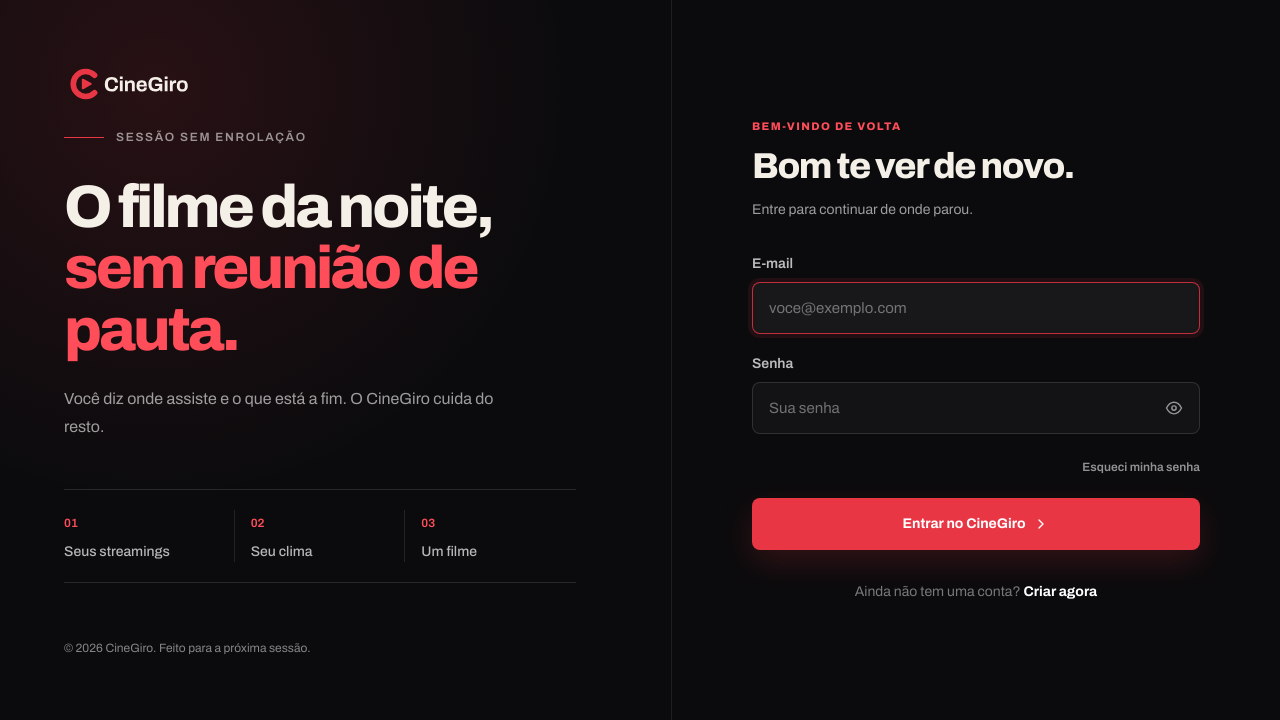
authentication pages › shows the API message when login credentials are invalid
Type "person@cinegiro.app" into the field labelled "E-mail" at [976, 308], box x1=752 y1=282 x2=1200 y2=334
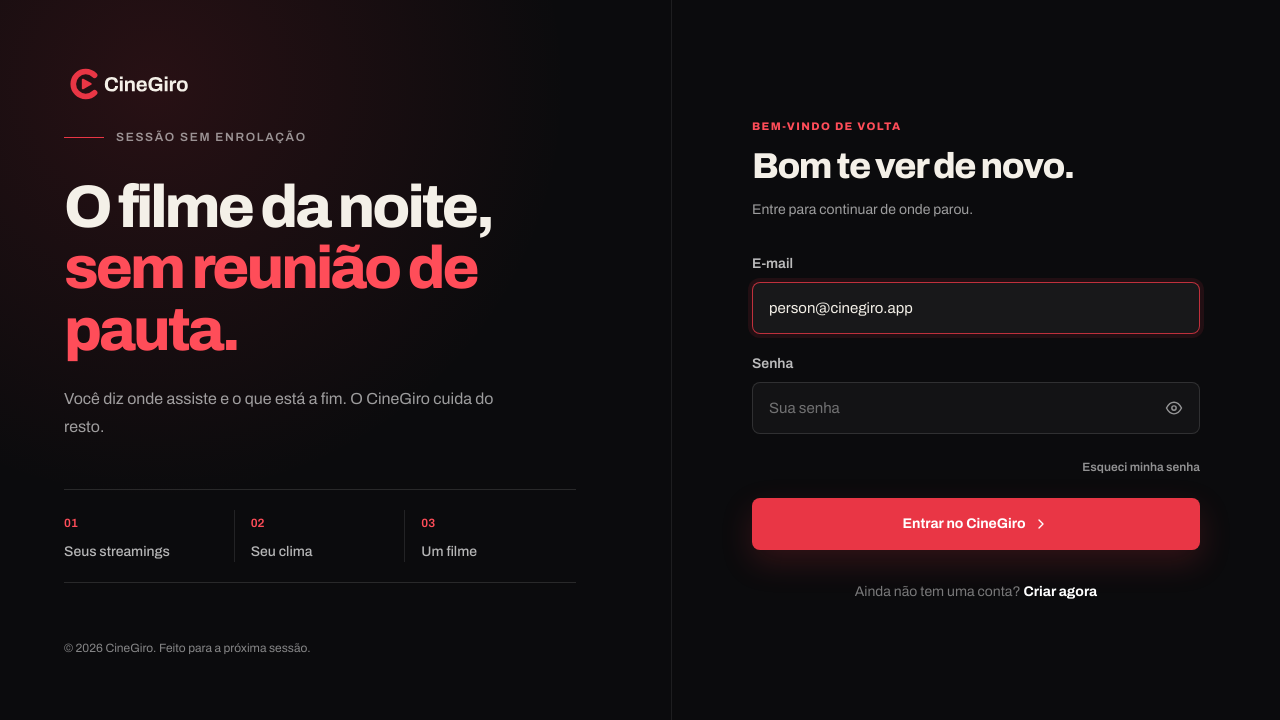
Type "wrong-password" into the password field labelled "Senha" at [976, 408], box x1=752 y1=382 x2=1200 y2=434
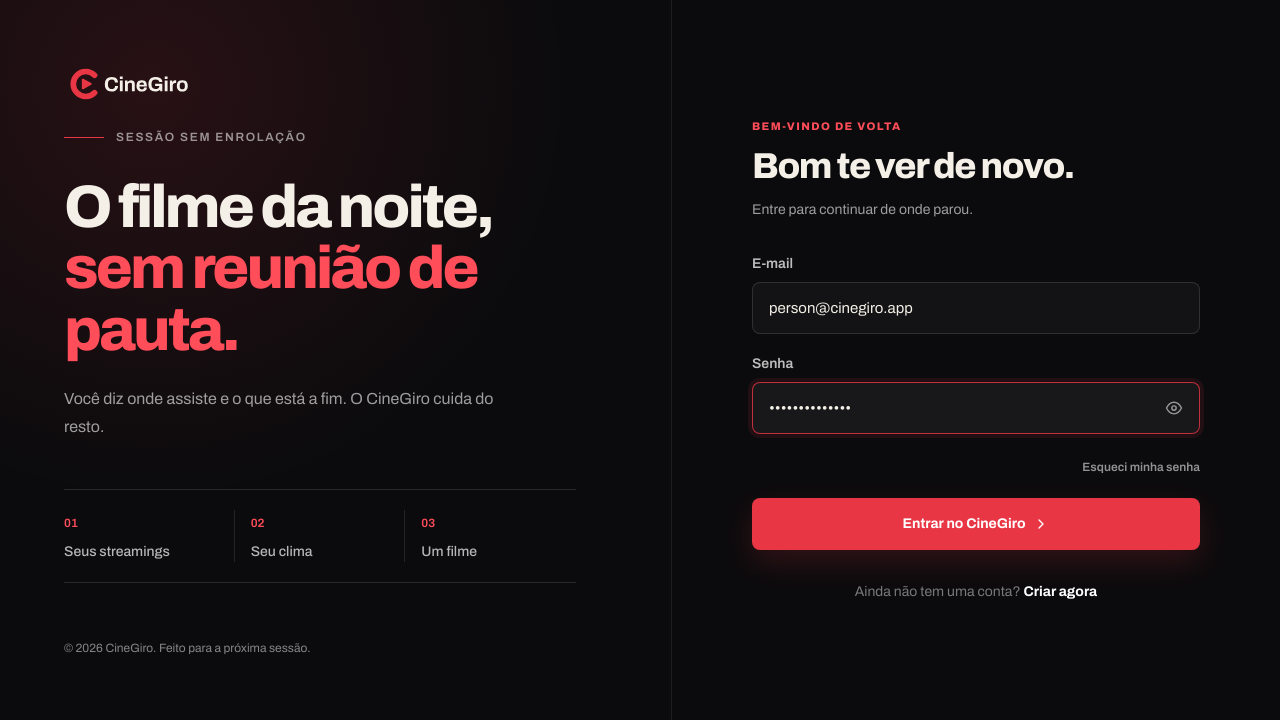
Click the button "Entrar no CineGiro" at [976, 524], box x1=752 y1=498 x2=1200 y2=550
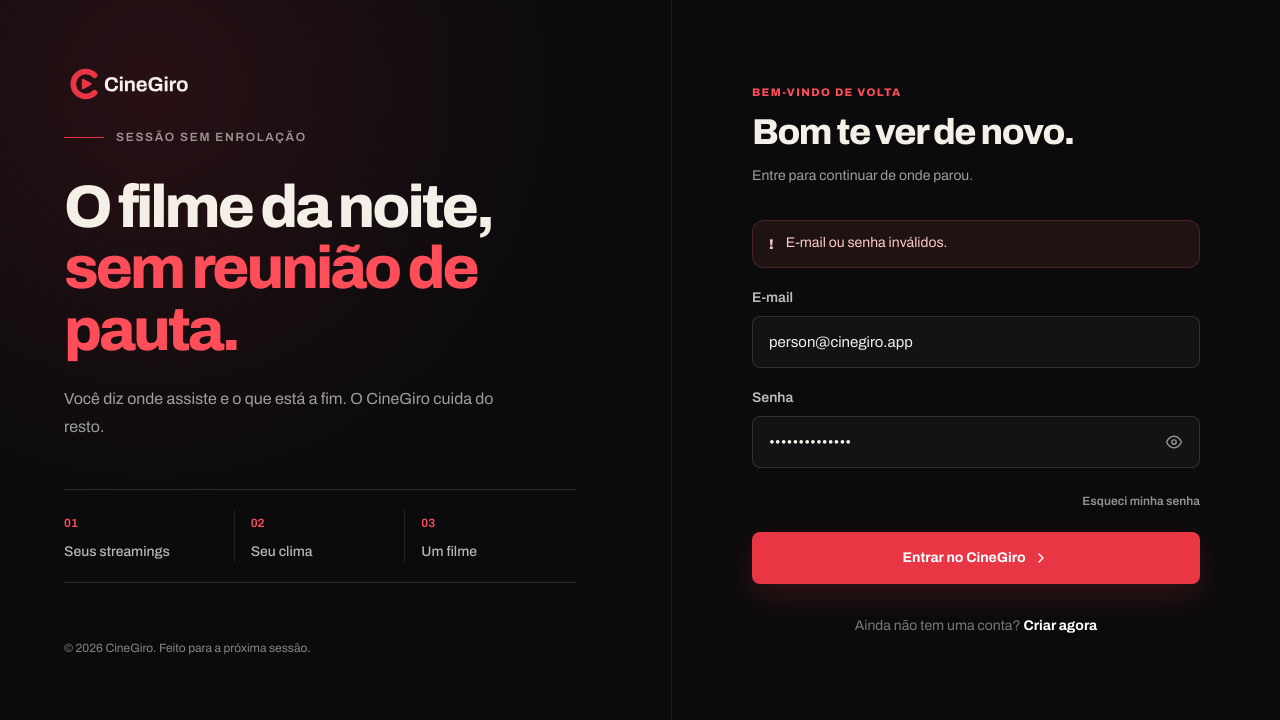
Now the message shows "E-mail ou senha inválidos.", box x1=786 y1=235 x2=948 y2=250
